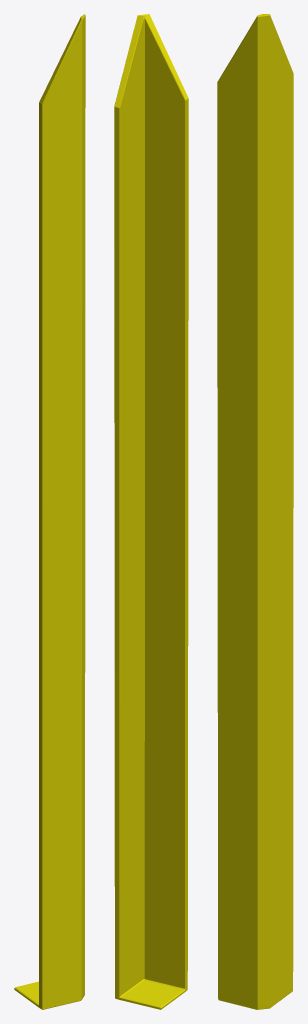
Rendered from Wide_Cabinet_Leg.fbx.
The picture shows the model from 3 angles, left to right: view 1: azimuth 30°, elevation 25°; view 2: azimuth 150°, elevation 25°; view 3: azimuth 330°, elevation 25°; orthographic projection. The views are drawn at different scales.
Parts seen in each view (by area): view 1: Wide_Cabinet_Leg; view 2: Wide_Cabinet_Leg; view 3: Wide_Cabinet_Leg.
Boxes of the visible parts, bbox=[...] form: Wide_Cabinet_Leg: bbox=[14, 14, 85, 1009]; Wide_Cabinet_Leg: bbox=[114, 14, 188, 1009]; Wide_Cabinet_Leg: bbox=[217, 14, 293, 1009].
Size of the model in its own units: 3.64 by 70.8 by 3.68.
